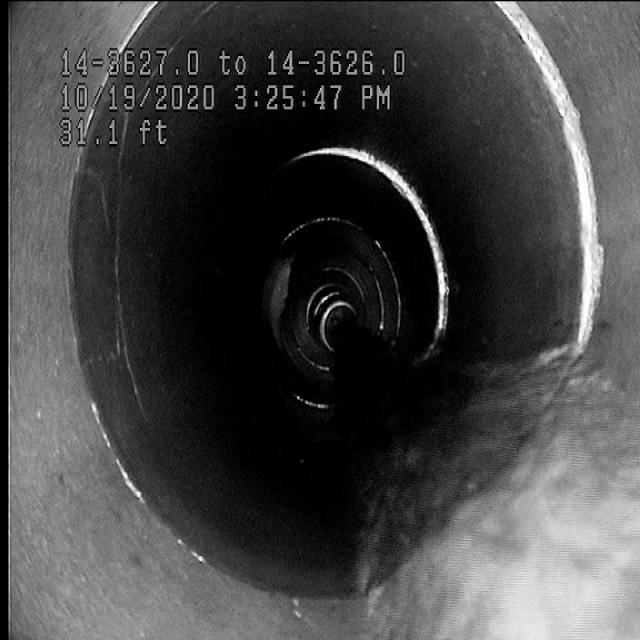Crack: (90, 176, 158, 417)
